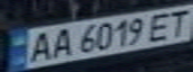0: (93, 19, 115, 51)
1: (112, 16, 133, 47)
6: (75, 21, 96, 53)
9: (127, 15, 151, 46)
A: (21, 29, 57, 64), (45, 26, 75, 60)
E: (145, 10, 178, 43)
T: (160, 6, 193, 38)
